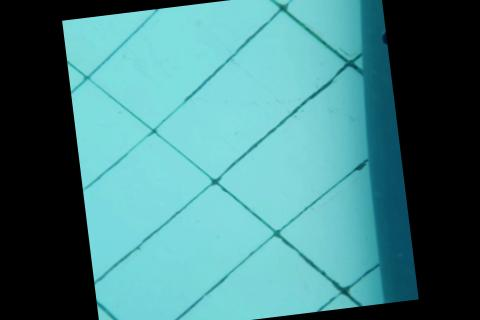kebocoran: (379, 28, 387, 47)
